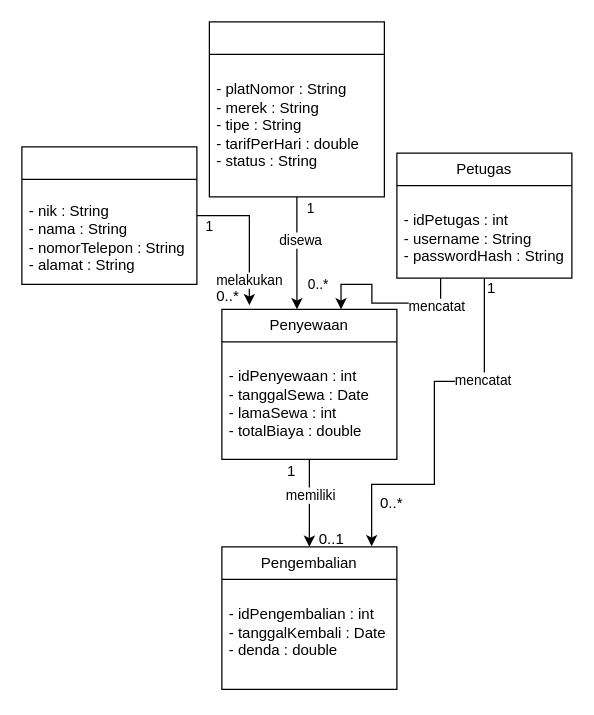
The diagram is 594 pixels wide and 715 high, and some of its shapes have lost their labels. The box of each missing label's shape, as (x1, y1, x2, y2) in pixels:
Kendaraan: (208, 21, 384, 197)
Pelanggan: (21, 146, 197, 284)
